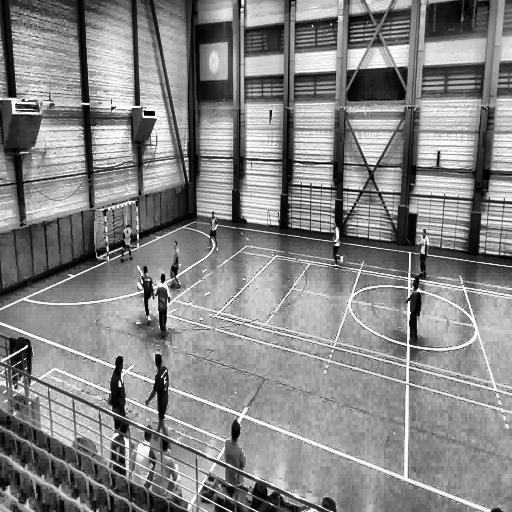ball: (136, 280, 143, 292)
player: (145, 352, 170, 438), (405, 278, 422, 344), (155, 274, 170, 338), (140, 265, 154, 325), (169, 242, 181, 288), (419, 228, 430, 278), (207, 210, 219, 252), (331, 220, 341, 267), (122, 224, 134, 262)
